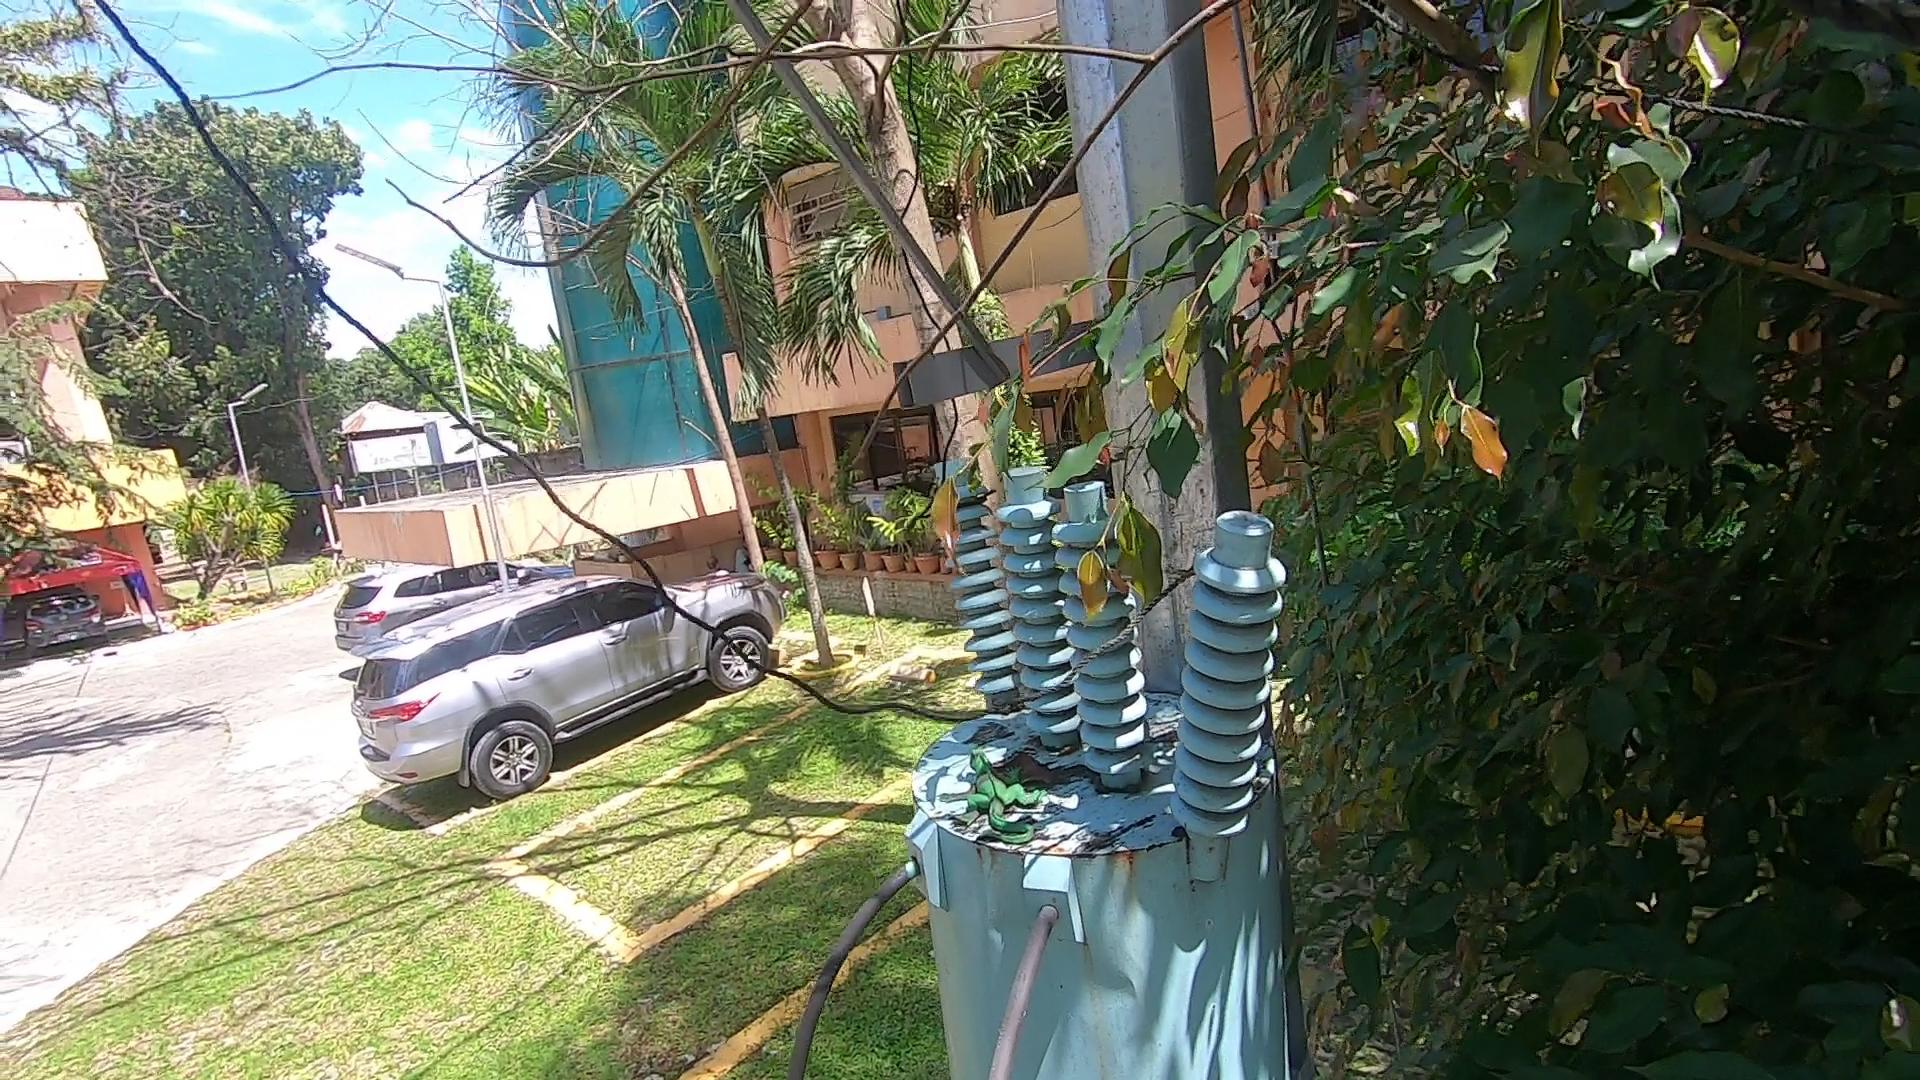leaf: (982, 738, 1091, 785)
tree branch: (175, 1, 1540, 563)
